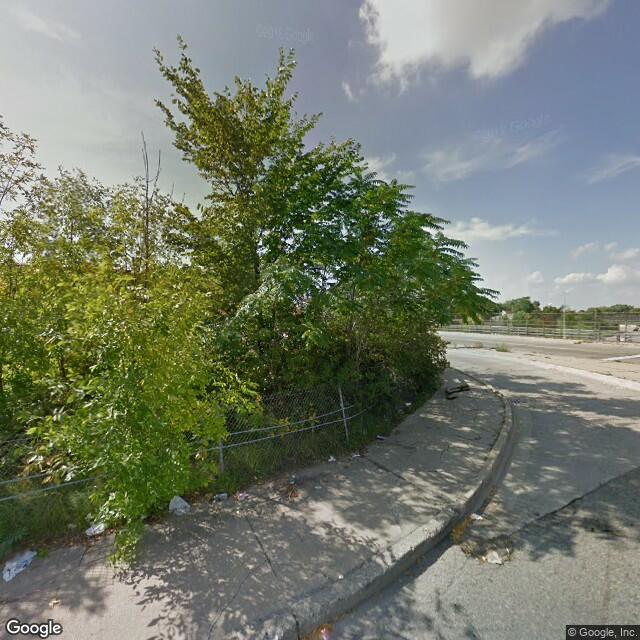litter: (1, 551, 37, 583), (480, 546, 505, 570), (168, 490, 190, 517), (443, 384, 472, 401), (84, 525, 108, 538), (469, 511, 484, 523), (323, 451, 336, 462), (211, 494, 228, 501), (375, 433, 390, 440), (350, 451, 360, 460)
